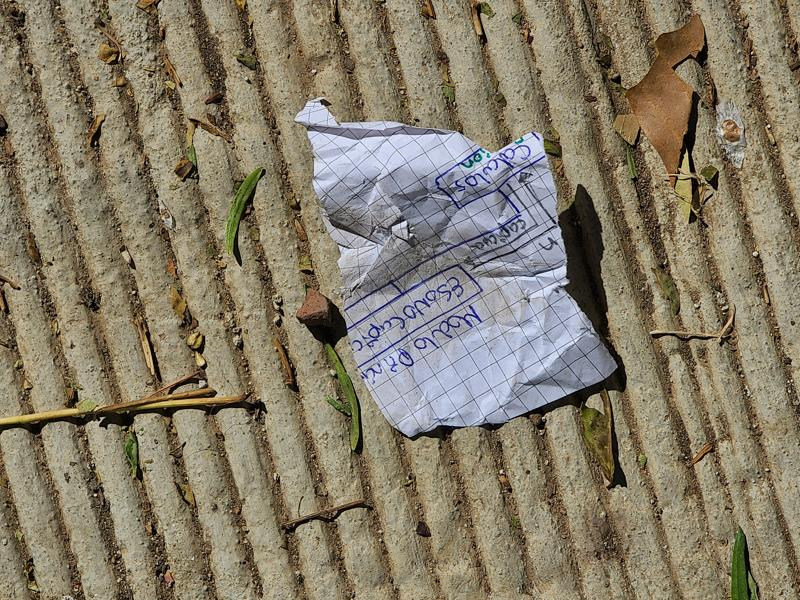papel: (297, 102, 627, 440)
